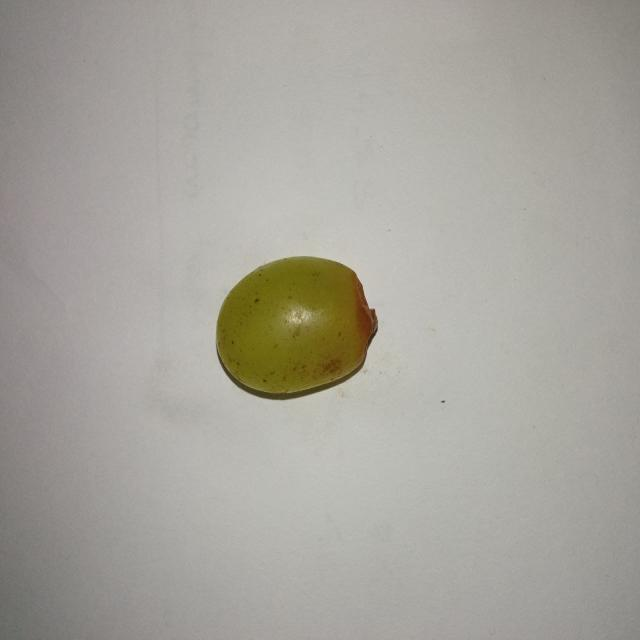fresh_grape: (218, 258, 366, 392)
